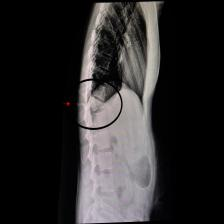compression-crush-fracture: (71, 0, 168, 224)
